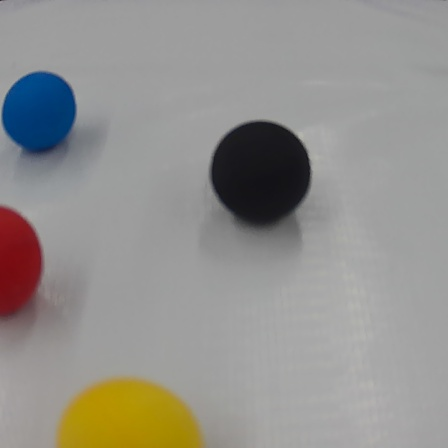black: (207, 117, 317, 230)
blue: (0, 66, 76, 155)
red: (0, 198, 44, 322)
yellow: (55, 373, 214, 448)
